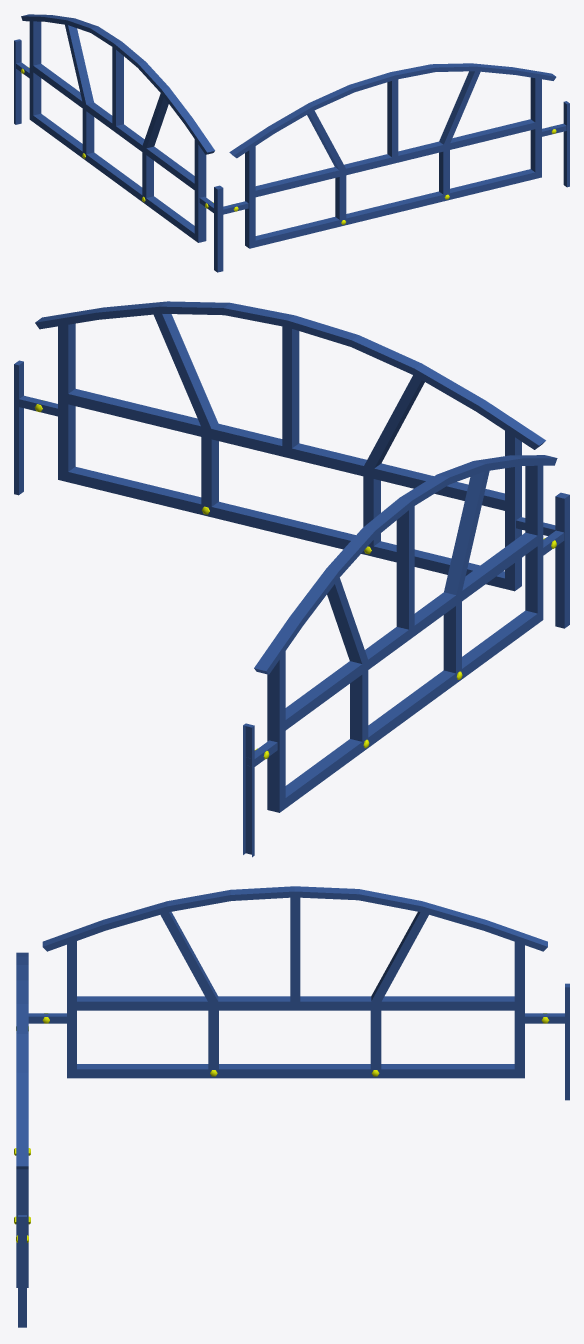
File: SM_Railings_Angle_01.fbx
3 renders of one model, top to bottom at view 1: azimuth 30°, elevation 25°; view 2: azimuth 150°, elevation 25°; view 3: azimuth 270°, elevation 25°, orthographic. The views are drawn at different scales.
Visible parts, largest first — view 1: SM_Railings_Angle_01; view 2: SM_Railings_Angle_01; view 3: SM_Railings_Angle_01.
Part boxes in pixels (<box>): SM_Railings_Angle_01: <box>14,14,569,272</box>; SM_Railings_Angle_01: <box>14,301,569,857</box>; SM_Railings_Angle_01: <box>14,886,569,1327</box>.
Size of the model in its own units: 223 by 92.87 by 223.
